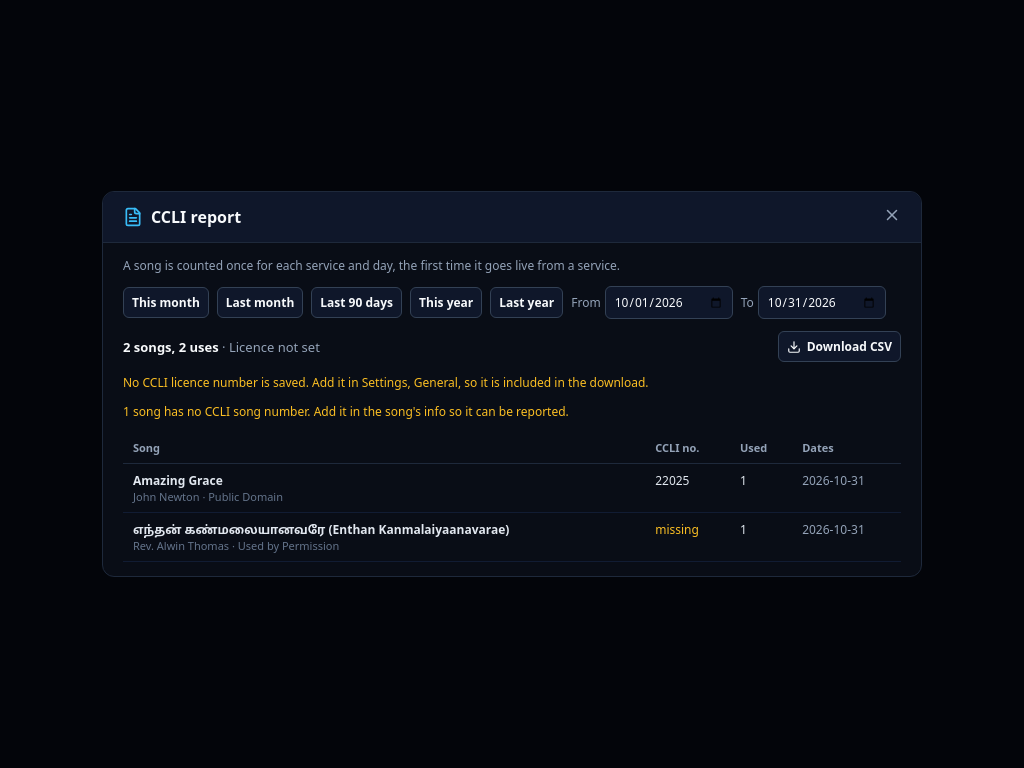
it: CcliReportModal › shows what was used this month with the licence, and warns about gaps
The width and height of the screenshot is (1024, 768).
expect the element with test id "ccli-summary" shows "2 songs, 2 uses": met, box 123,338 -> 320,356
expect the number of rows with test id "ccli-row" is 2: met, box 123,464 -> 901,512; 123,512 -> 901,562
Click the button with test id "ccli-preset-thisYear" at (446, 302), box 410,287 -> 482,318
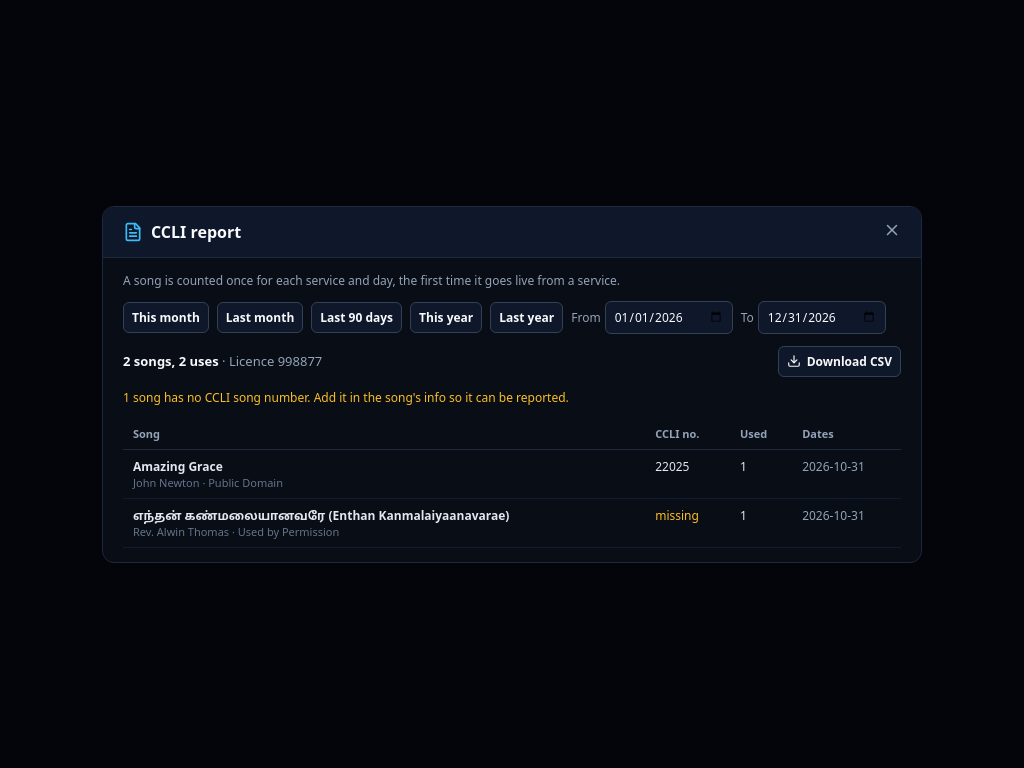
expect the element with test id "ccli-summary" shows "Licence 998877": met, box 123,352 -> 322,370
expect the text with test id "ccli-no-licence" is gone: met
